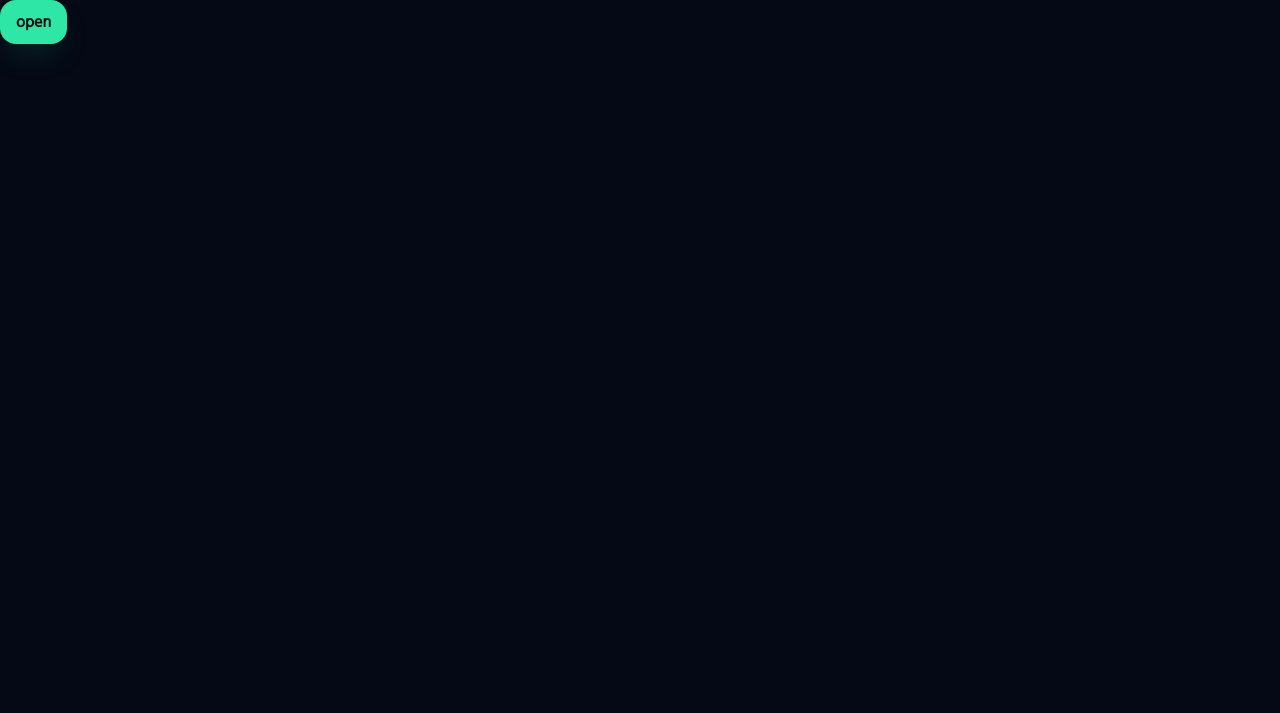
Test: WhySheet › FR-70 explains an uncertain finding with the sections tried and why each failed
Click the button "open": x=34, y=22 x1=0 y1=0 x2=67 y2=44
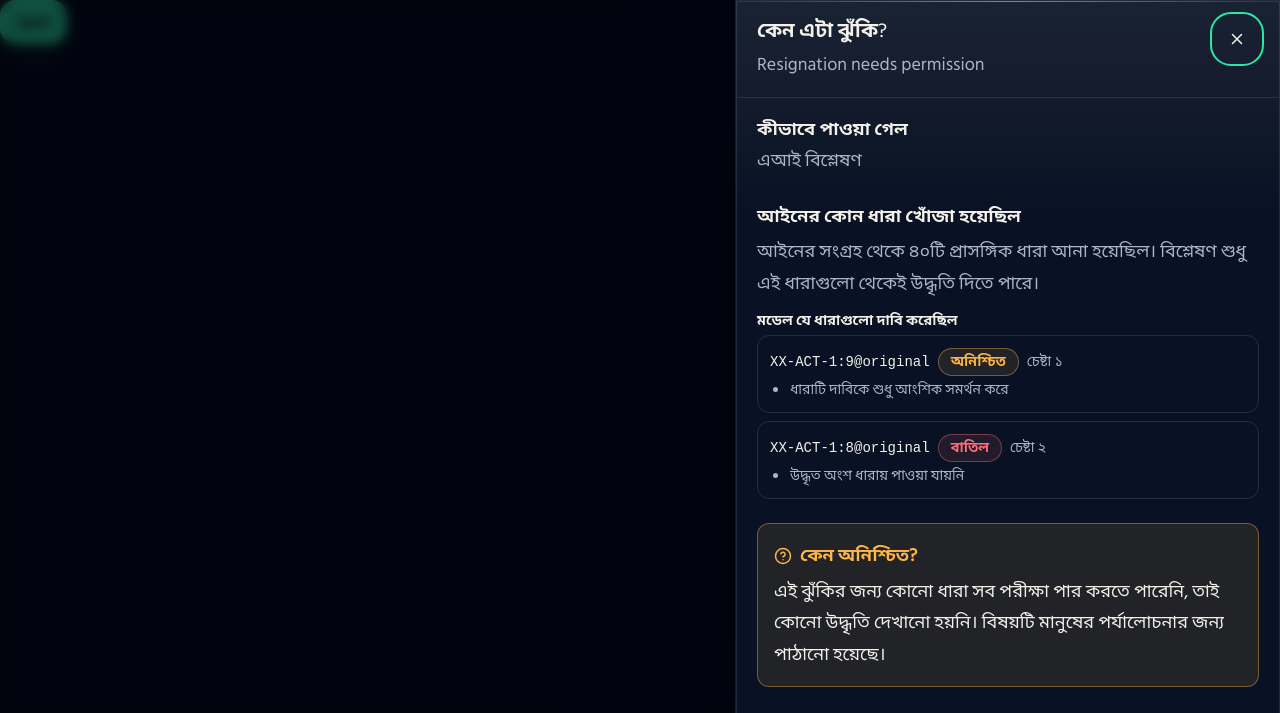
Expected: the heading "কেন অনিশ্চিত?" is shown, x1=774 y1=541 x2=917 y2=570
Expected: the list item "ধারাটি দাবিকে শুধু আংশিক সমর্থন করে" is shown, x1=790 y1=378 x2=1009 y2=401
Expected: the list item "উদ্ধৃত অংশ ধারায় পাওয়া যায়নি" is shown, x1=790 y1=464 x2=964 y2=487
